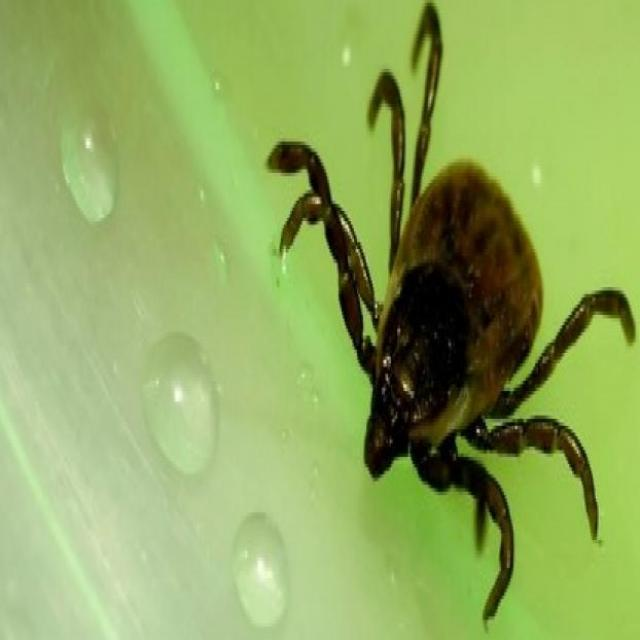Rhipicephalus Sanguineus-F: (264, 3, 636, 627)
